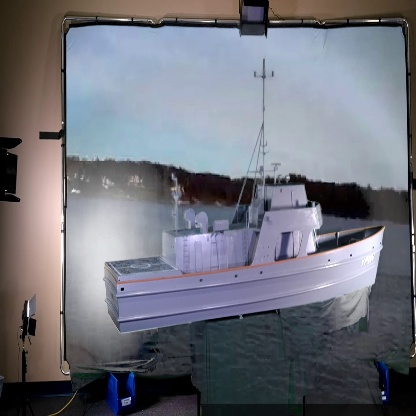YP689: (103, 57, 389, 337)
